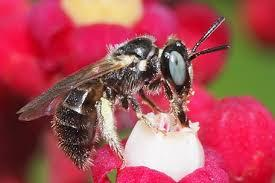Braunsapis: (22, 13, 235, 171)
